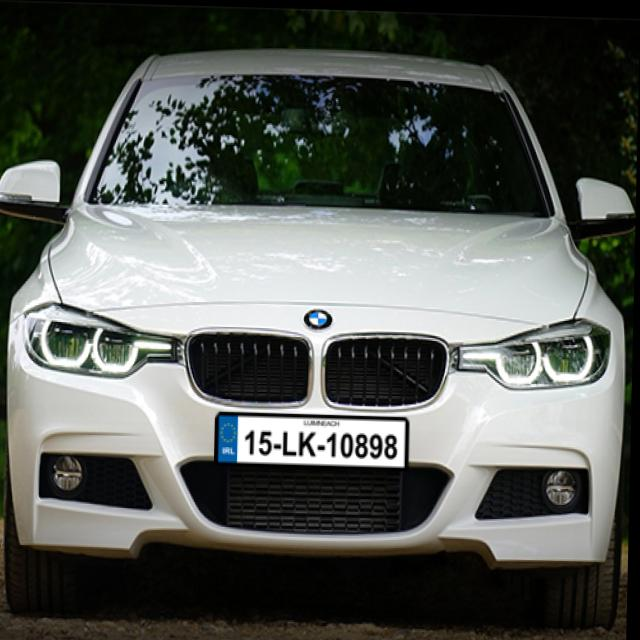licence: (216, 410, 410, 464)
